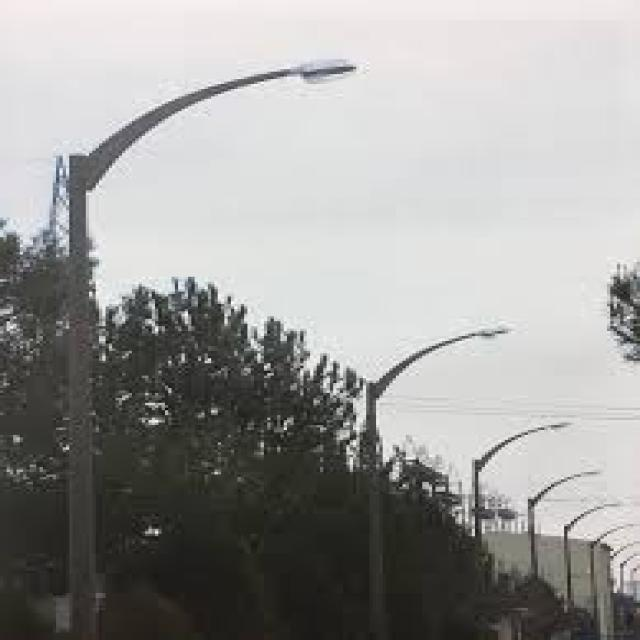Street Light: (60, 57, 356, 632), (360, 321, 514, 620), (469, 418, 564, 615)
